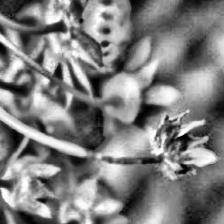Gray Mold: (144, 109, 219, 179)
